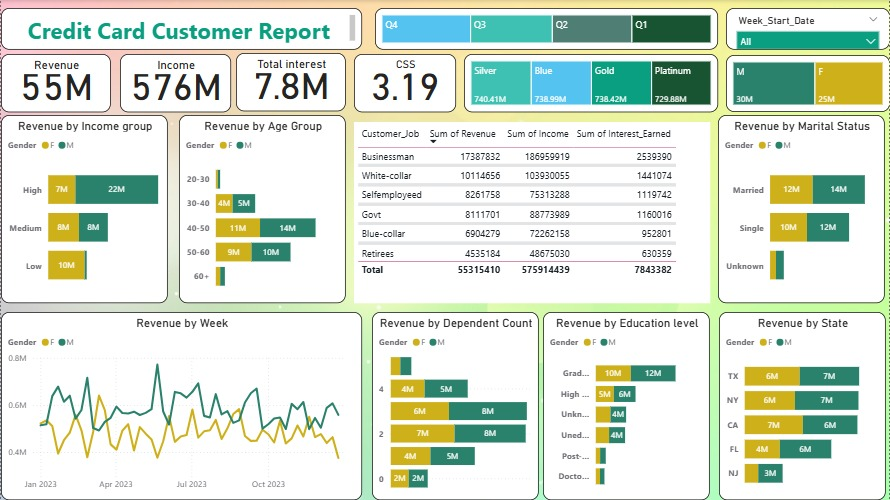

What the dashboard file says about the page in this screenshot:
{"tool":"powerbi","page":{"name":"CC Customer","canvas":[1280,720],"ordinal":1},"visuals":[{"type":"textbox","box":[0,11.5,519.8,60.5],"z":0},{"type":"barChart","title":"Revenue by Income group","fields":{"Y":["Sum(credit_card db.Revenue)"],"Category":["customer_db.Incomegroup"],"Series":["customer_db.Gender"]},"box":[0,165.6,240.5,270.7],"z":1000},{"type":"tableEx","fields":{"Values":["customer_db.Customer_Job","Sum(credit_card db.Revenue)","Sum(customer_db.Income)","Sum(credit_card db.Interest_Earned)"]},"box":[508.3,175.7,512.6,260.6],"z":2000},{"type":"card","title":"Revenue","fields":{"Values":["Sum(credit_card db.Revenue)"]},"box":[0,77.8,158.4,83.5],"z":3000},{"type":"card","title":"Income","fields":{"Values":["Sum(customer_db.Income)"]},"box":[171.4,77.8,159.8,83.5],"z":4000},{"type":"card","title":"Total interest","fields":{"Values":["Sum(credit_card db.Interest_Earned)"]},"box":[338.4,76.3,158.4,83.5],"z":5000},{"type":"card","title":"CSS","fields":{"Values":["select","Avg(customer_db.Cust_Satisfaction_Score)"]},"box":[508.3,77.8,146.9,83.5],"z":6000},{"type":"slicer","fields":{"Values":["credit_card db.Week_Start_Date"]},"box":[1044,11.5,236.2,60.5],"z":7000},{"type":"treemap","fields":{"Group":["credit_card db.Qtr"],"Values":["Avg(customer_db.Client_Num)"]},"box":[538.6,11.5,493.9,60.5],"z":8000},{"type":"treemap","fields":{"Group":["credit_card db.Card_Category"],"Values":["Avg(customer_db.Client_Num)"]},"box":[666.7,77.8,365.8,83.5],"z":9000},{"type":"treemap","fields":{"Group":["customer_db.Gender"],"Values":["Sum(credit_card db.Revenue)"]},"box":[1044,79.2,236.2,82.1],"z":10000},{"type":"barChart","title":"Revenue by Age Group","fields":{"Y":["Sum(credit_card db.Revenue)"],"Category":["customer_db.AgeGroup"],"Series":["customer_db.Gender"]},"box":[256.3,165.6,240.5,270.7],"z":11000},{"type":"barChart","title":"Revenue by Education level","fields":{"Y":["Sum(credit_card db.Revenue)"],"Category":["customer_db.Education_Level"],"Series":["customer_db.Gender"]},"box":[780.5,449.3,240.5,270.7],"z":12000},{"type":"barChart","title":"Revenue by State","fields":{"Y":["Sum(credit_card db.Revenue)"],"Category":["customer_db.state_cd"],"Series":["customer_db.Gender"]},"box":[1033.9,449.3,240,270.7],"z":13000},{"type":"barChart","title":"Revenue by Dependent Count","fields":{"Y":["Sum(credit_card db.Revenue)"],"Category":["customer_db.Dependent_Count"],"Series":["customer_db.Gender"]},"box":[534.2,449.3,240,270.7],"z":14000},{"type":"barChart","title":"Revenue by Marital Status","fields":{"Y":["Sum(credit_card db.Revenue)"],"Category":["customer_db.Marital_Status"],"Series":["customer_db.Gender"]},"box":[1032.5,165.6,240.5,270.7],"z":15000},{"type":"lineChart","title":"Revenue by Week","fields":{"Y":["Sum(credit_card db.Revenue)"],"Series":["customer_db.Gender"],"Category":["credit_card db.Week_Start_Date.Variation.Date Hierarchy.Year","credit_card db.Week_Start_Date.Variation.Date Hierarchy.Month","credit_card db.Week_Start_Date.Variation.Date Hierarchy.Day"]},"box":[0,449.3,519.8,270.7],"z":16000}]}

Visuals, with their boxes in screenshot pixels (x1, y1, x2, y2), scaled from the page's 1280x720 canvas onto the 890x500 screenshot:
textbox: 0/8/361/50
"Revenue by Income group" barChart: 0/115/167/303
tableEx - customer_db.Customer_Job x Sum(credit_card db.Revenue): 353/122/710/303
"Revenue" card: 0/54/110/112
"Income" card: 119/54/230/112
"Total interest" card: 235/53/345/111
"CSS" card: 353/54/456/112
slicer - credit_card db.Week_Start_Date: 726/8/889/50
treemap - credit_card db.Qtr x Avg(customer_db.Client_Num): 374/8/718/50
treemap - credit_card db.Card_Category x Avg(customer_db.Client_Num): 464/54/718/112
treemap - customer_db.Gender x Sum(credit_card db.Revenue): 726/55/889/112
"Revenue by Age Group" barChart: 178/115/345/303
"Revenue by Education level" barChart: 543/312/710/499
"Revenue by State" barChart: 719/312/886/499
"Revenue by Dependent Count" barChart: 371/312/538/499
"Revenue by Marital Status" barChart: 718/115/885/303
"Revenue by Week" lineChart: 0/312/361/499
